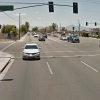Traffic light: (44, 0, 95, 18)
